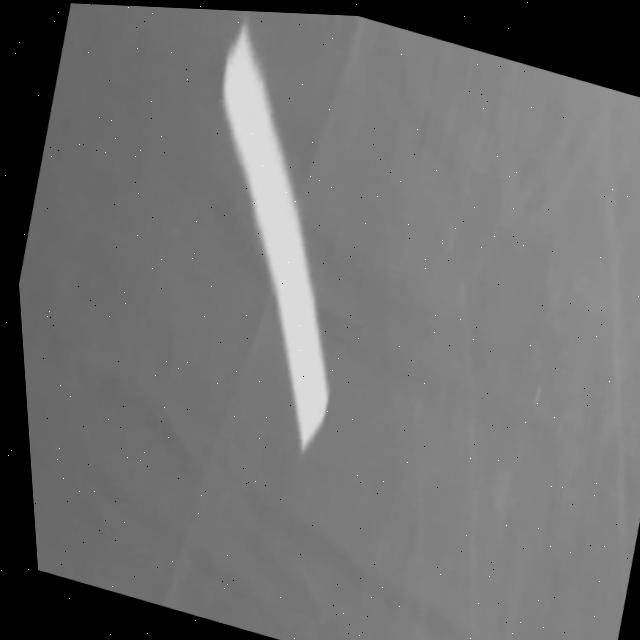center: (222, 24, 327, 451)
